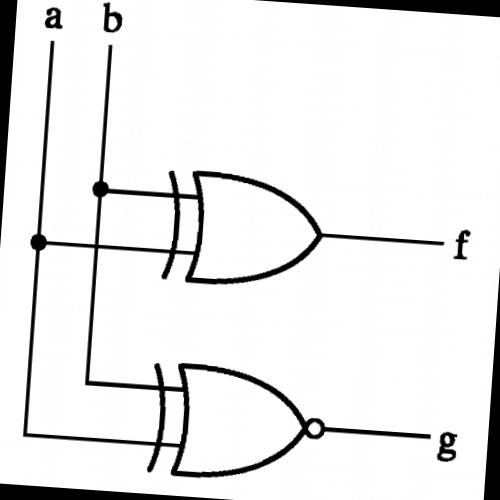xnor: (140, 350, 336, 491)
xor: (155, 162, 335, 296)
